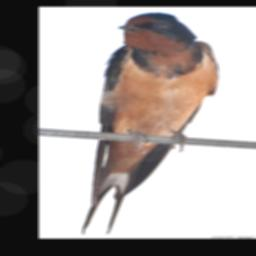Swallow: (79, 11, 220, 236)
